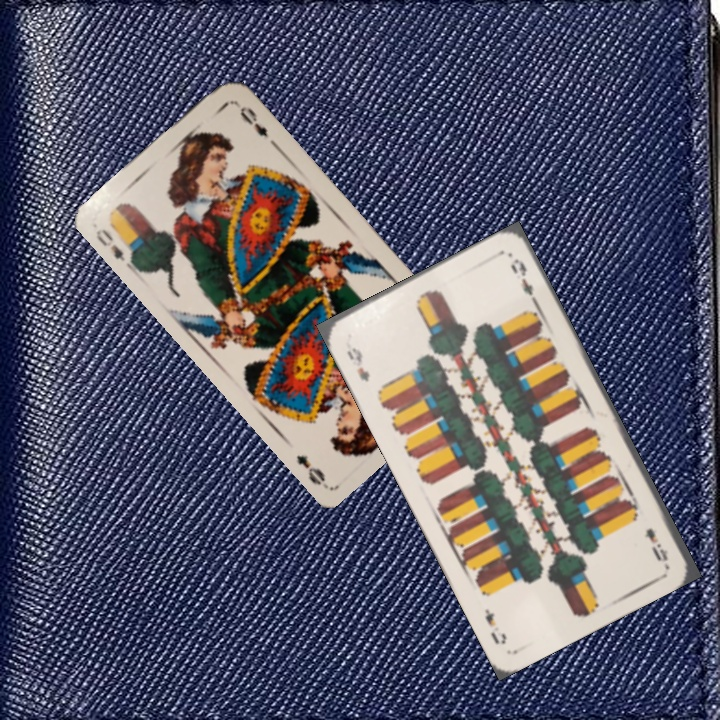E9: (342, 343, 373, 384), (641, 524, 671, 564)
EO: (91, 224, 137, 270)
